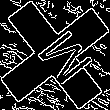M_SW: (21, 21, 89, 89)
